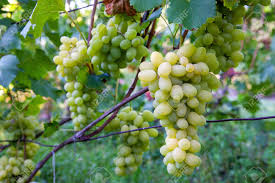grapes: (143, 52, 208, 171), (57, 34, 102, 136), (199, 14, 249, 76), (6, 101, 42, 177), (114, 111, 152, 175), (98, 22, 142, 76)
